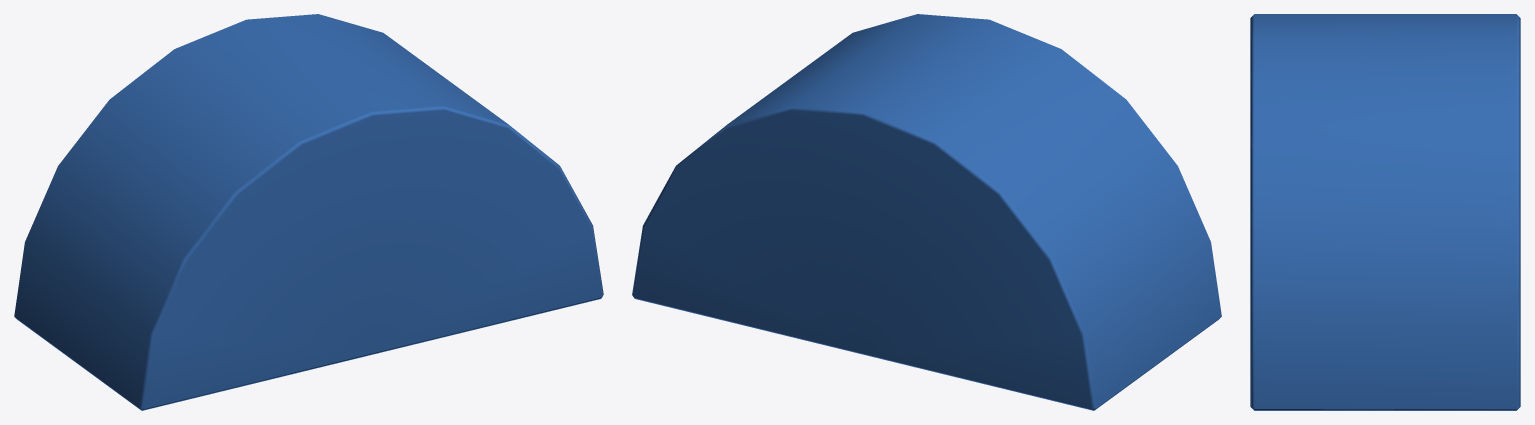
Rendered from SHP0110001.fbx.
The picture shows the model from 3 angles, left to right: view 1: azimuth 30°, elevation 25°; view 2: azimuth 150°, elevation 25°; view 3: azimuth 270°, elevation 25°; orthographic projection. The views are drawn at different scales.
Parts seen in each view (by area): view 1: smSHP0110001; view 2: smSHP0110001; view 3: smSHP0110001.
Boxes of the visible parts, x1,y1,x2,y2 form: smSHP0110001: (14, 14, 603, 410); smSHP0110001: (632, 14, 1221, 410); smSHP0110001: (1250, 14, 1520, 410).
Size of the model in its own units: 278 by 140 by 134.
Materials: 1 (1 with a texture image).
